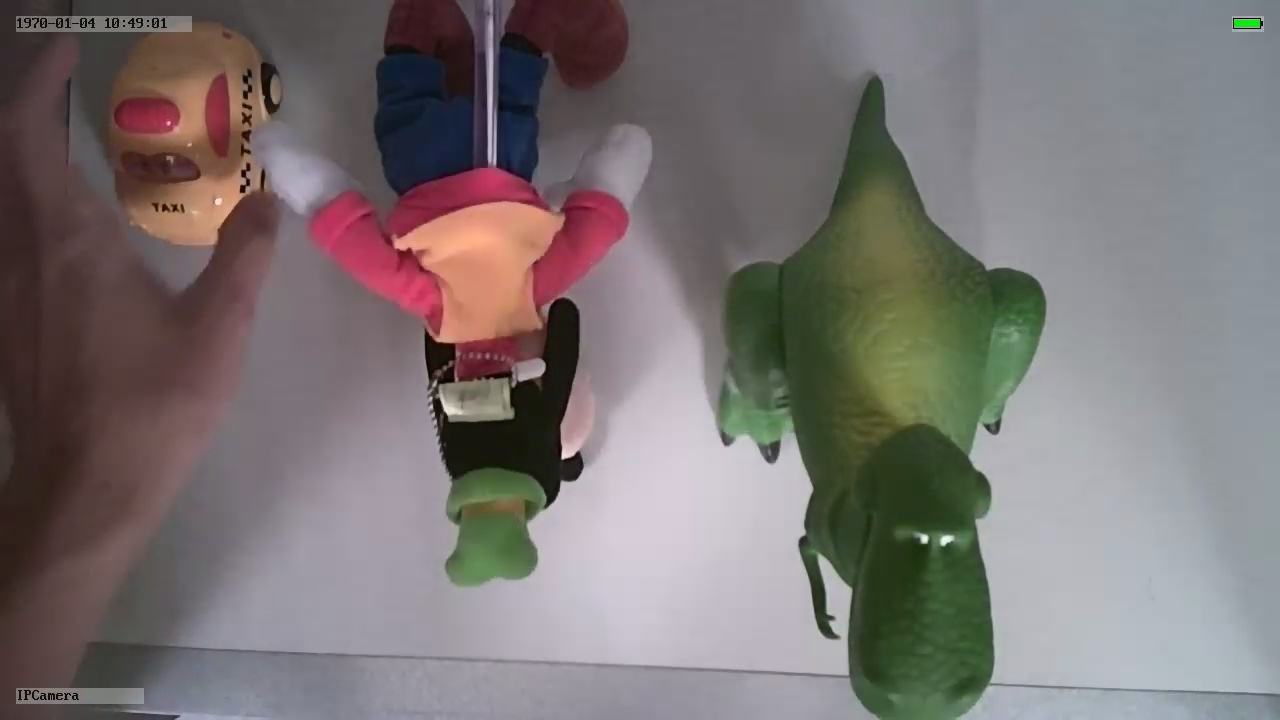rex: (714, 164, 1049, 720)
